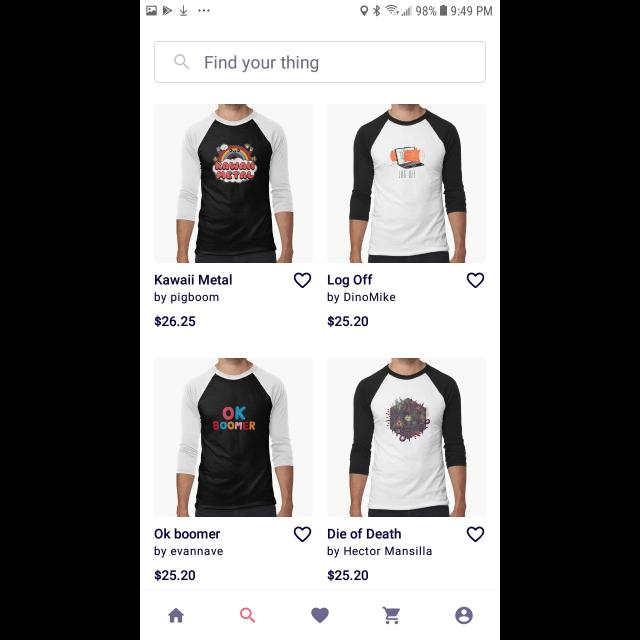icon: (382, 607, 400, 625), (455, 607, 473, 625), (294, 526, 312, 542), (467, 526, 485, 542), (294, 272, 312, 288), (311, 607, 329, 623), (174, 54, 190, 70), (168, 608, 184, 624), (468, 274, 484, 288), (240, 608, 256, 622)
image: (155, 358, 313, 518), (327, 358, 485, 518), (328, 104, 486, 264), (155, 104, 313, 264)
input: (154, 41, 486, 83)
text: (328, 528, 432, 558), (154, 274, 232, 304), (154, 528, 223, 558), (327, 274, 395, 304), (205, 56, 318, 72), (154, 570, 196, 582), (156, 316, 197, 328), (328, 569, 368, 581), (328, 316, 368, 326)
uppertaskbar: (140, 1, 500, 17)
